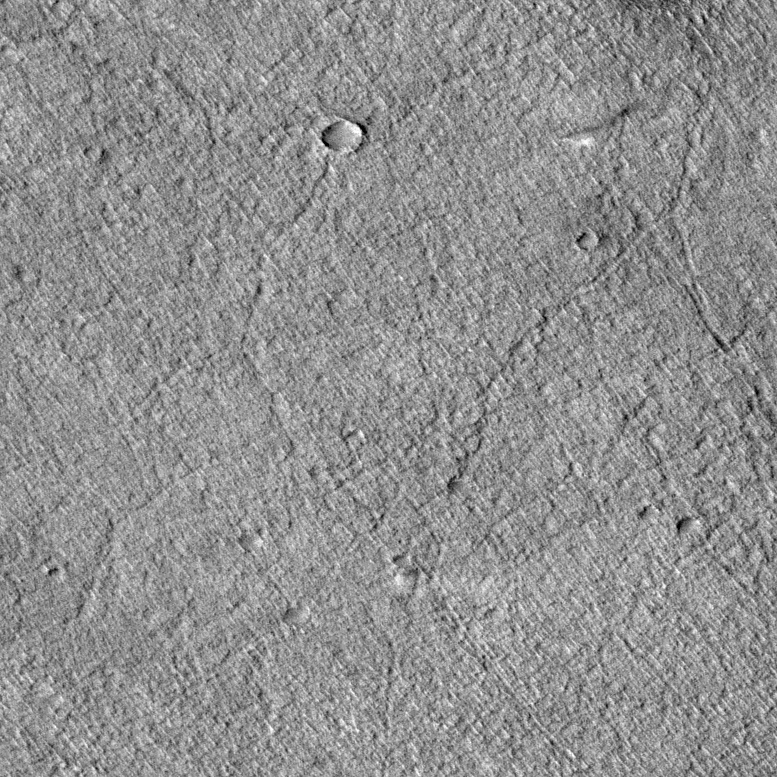dust_devil: (556, 104, 636, 148)
